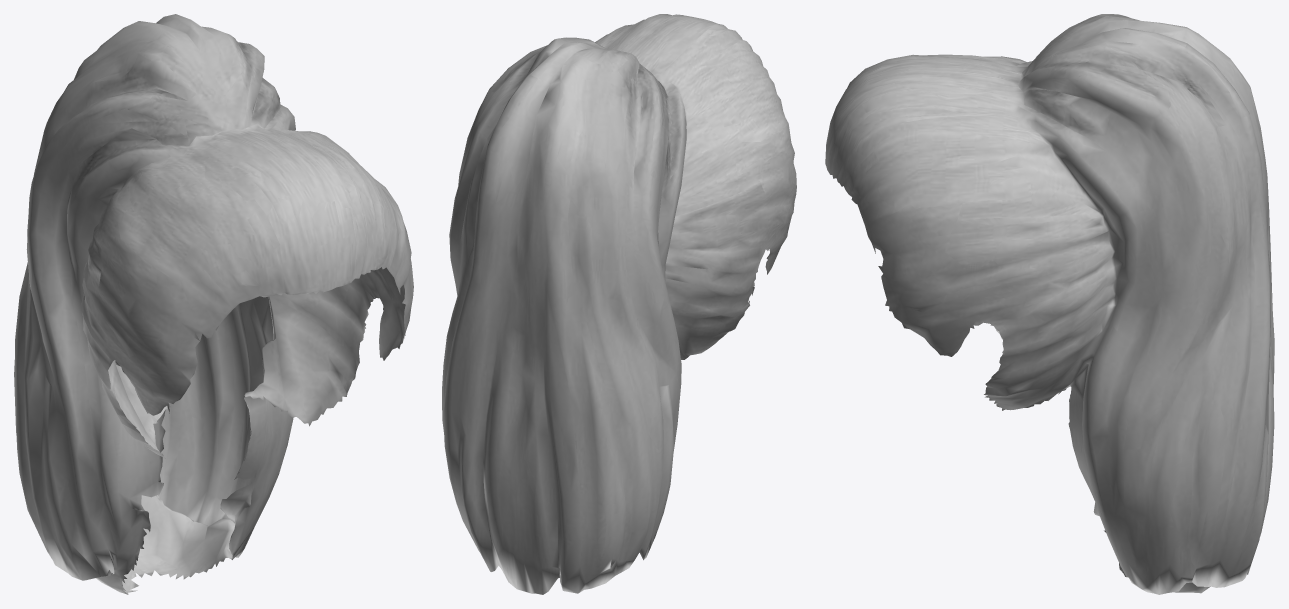
The model's file is hair_ponytail.glb.
The picture shows the model from 3 angles, left to right: view 1: azimuth 30°, elevation 25°; view 2: azimuth 150°, elevation 25°; view 3: azimuth 270°, elevation 25°; orthographic projection. The views are drawn at different scales.
Visible parts, largest first — view 1: Hair; view 2: Hair; view 3: Hair.
Part boxes in pixels (x1=…): Hair: x1=14, y1=14, x2=413, y2=594; Hair: x1=442, y1=14, x2=796, y2=594; Hair: x1=825, y1=14, x2=1274, y2=594.
Bounding box in the file's own units: 0.9194 × 1.79 × 1.31.
Materials: 1 (1 with a texture image).
